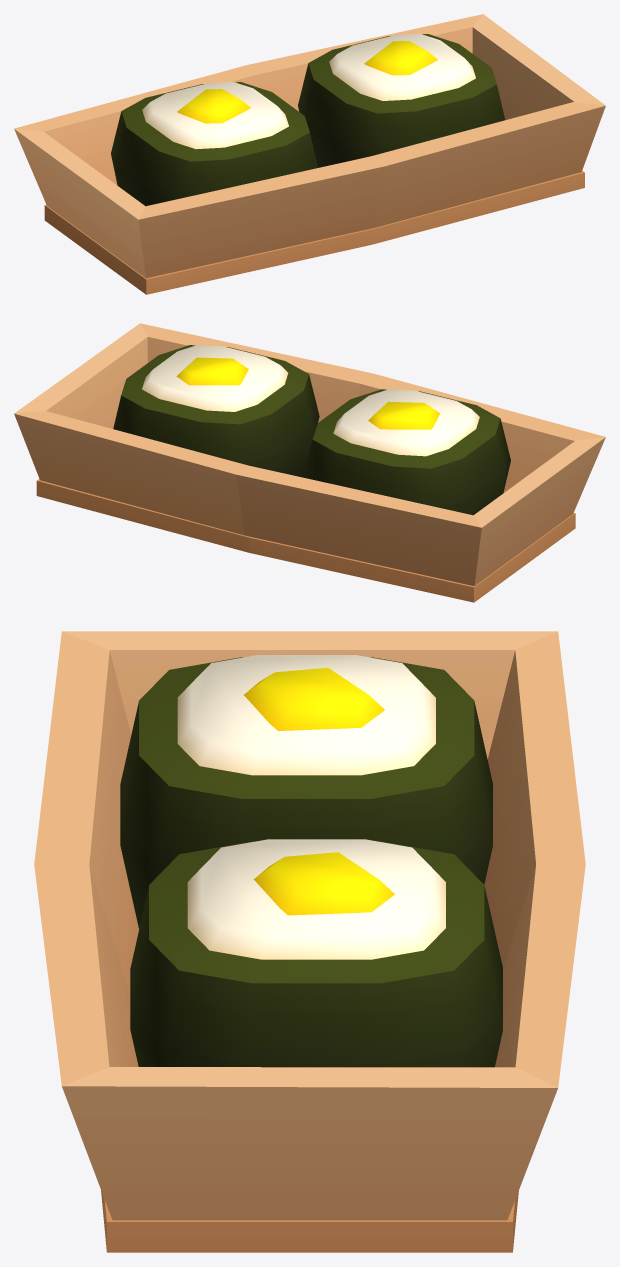
The model's file is Set_1_029.gltf.
The picture shows the model from 3 angles, top to bottom: view 1: azimuth 30°, elevation 25°; view 2: azimuth 150°, elevation 25°; view 3: azimuth 270°, elevation 25°; orthographic projection. The views are drawn at different scales.
Visible parts, largest first — view 1: Box_Cardboard_Small_001.003, Sushi_Small_Nori_002.002, Sushi_Small_Nori_002.001; view 2: Box_Cardboard_Small_001.003, Sushi_Small_Nori_002.002, Sushi_Small_Nori_002.001; view 3: Box_Cardboard_Small_001.003, Sushi_Small_Nori_002.002, Sushi_Small_Nori_002.001.
Part boxes in pixels (bbox=[...]): Box_Cardboard_Small_001.003: bbox=[14, 14, 605, 294]; Sushi_Small_Nori_002.002: bbox=[298, 33, 505, 167]; Sushi_Small_Nori_002.001: bbox=[111, 82, 317, 206]; Box_Cardboard_Small_001.003: bbox=[14, 323, 605, 602]; Sushi_Small_Nori_002.002: bbox=[113, 345, 319, 477]; Sushi_Small_Nori_002.001: bbox=[303, 389, 510, 515]; Box_Cardboard_Small_001.003: bbox=[34, 631, 585, 1252]; Sushi_Small_Nori_002.002: bbox=[130, 839, 502, 1067]; Sushi_Small_Nori_002.001: bbox=[120, 655, 492, 928].
Bounding box in the file's own units: 1.96 × 0.5053 × 1.
Materials: 1 (1 with a texture image).
